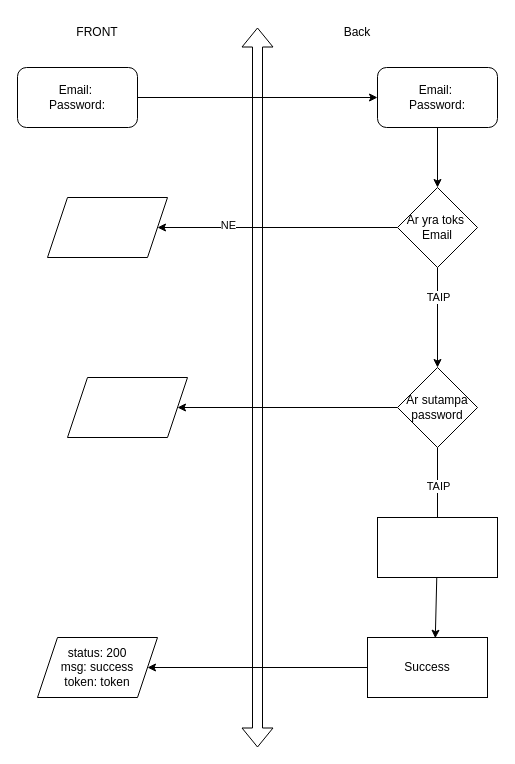
Some shapes in this 515 by 764 pixel diagram are drawn without their labels. The centre of each missing label's shape, as x and y in pixels:
"Generuoti JWT" belongs at [437,547].
"status: 400 error: email not found" belongs at [107,227].
"status: 401 error: email or password not found" belongs at [127,407].
